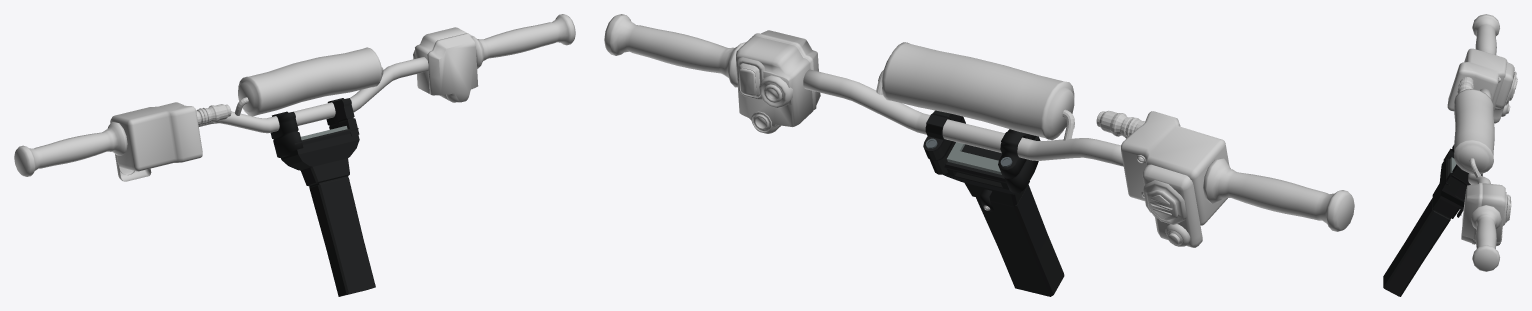
File: handle.FBX
The picture shows the model from 3 angles, left to right: view 1: azimuth 30°, elevation 25°; view 2: azimuth 150°, elevation 25°; view 3: azimuth 270°, elevation 25°; orthographic projection. The views are drawn at different scales.
Visible parts, largest first — view 1: Group003, ddd; view 2: Group003, ddd; view 3: Group003, ddd.
Part boxes in pixels (x1,y1,x2,y2): Group003: (14, 14, 575, 296); ddd: (196, 57, 428, 140); Group003: (604, 14, 1354, 296); ddd: (803, 69, 1145, 210); Group003: (1383, 14, 1517, 296); ddd: (1450, 77, 1501, 215).
Size of the model in its own units: 41.76 by 14.7 by 10.1.
